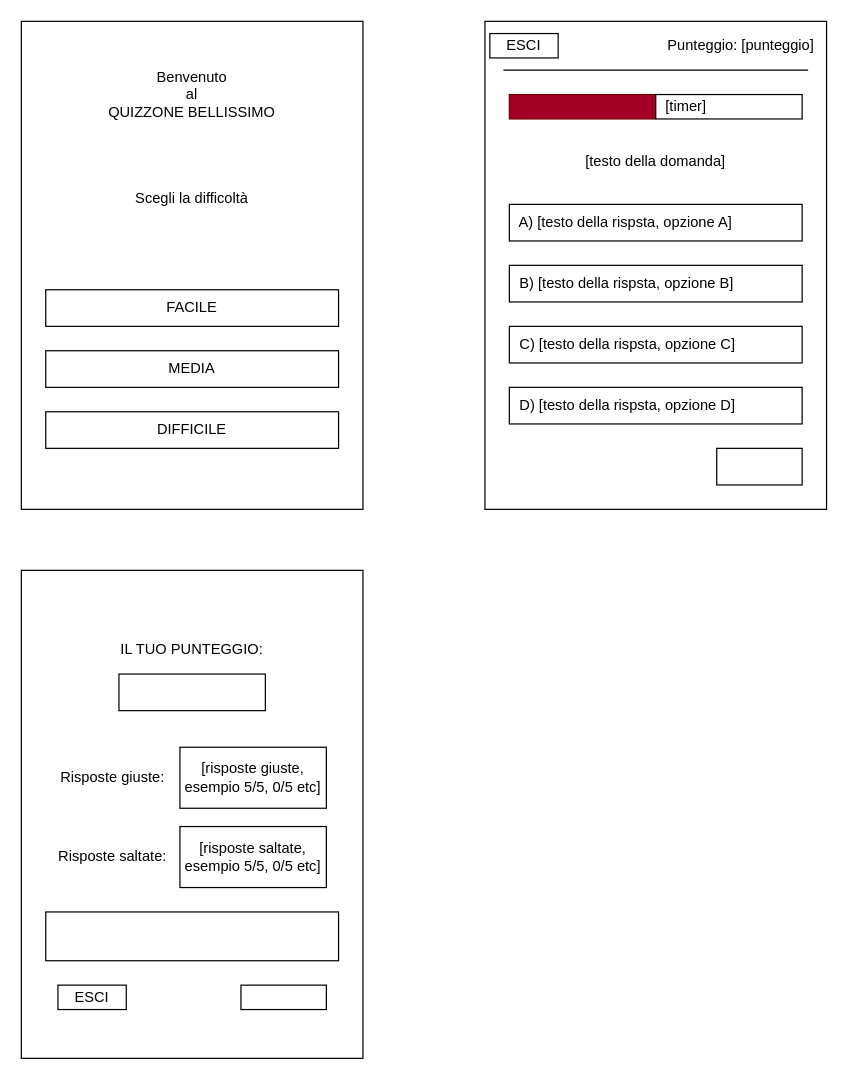
The diagram is 860 pixels wide and 1080 high, and some of its shapes have lost their labels. Here are the shapes that lost their labels. From the top down, the box of each, then its label:
(716, 447, 802, 485): SALTA
(118, 673, 265, 711): [punteggio]
(45, 911, 339, 961): Salva punteggio: __ __ __
(240, 984, 326, 1010): RIPROVA
